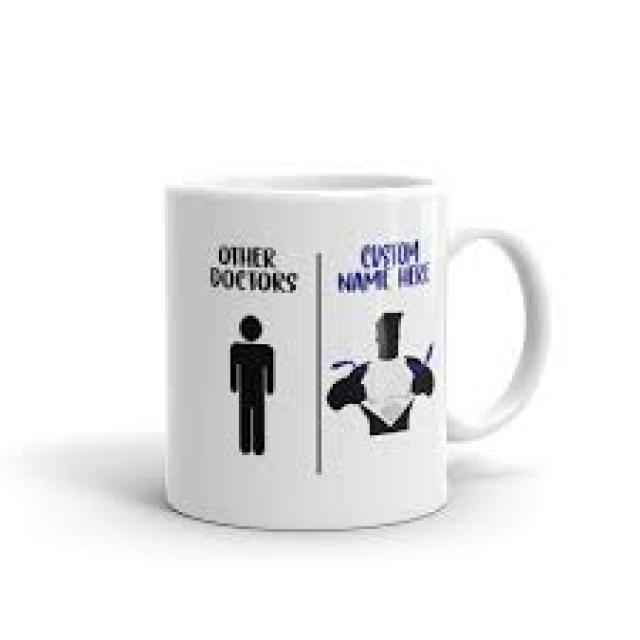taza: (147, 154, 562, 536)
